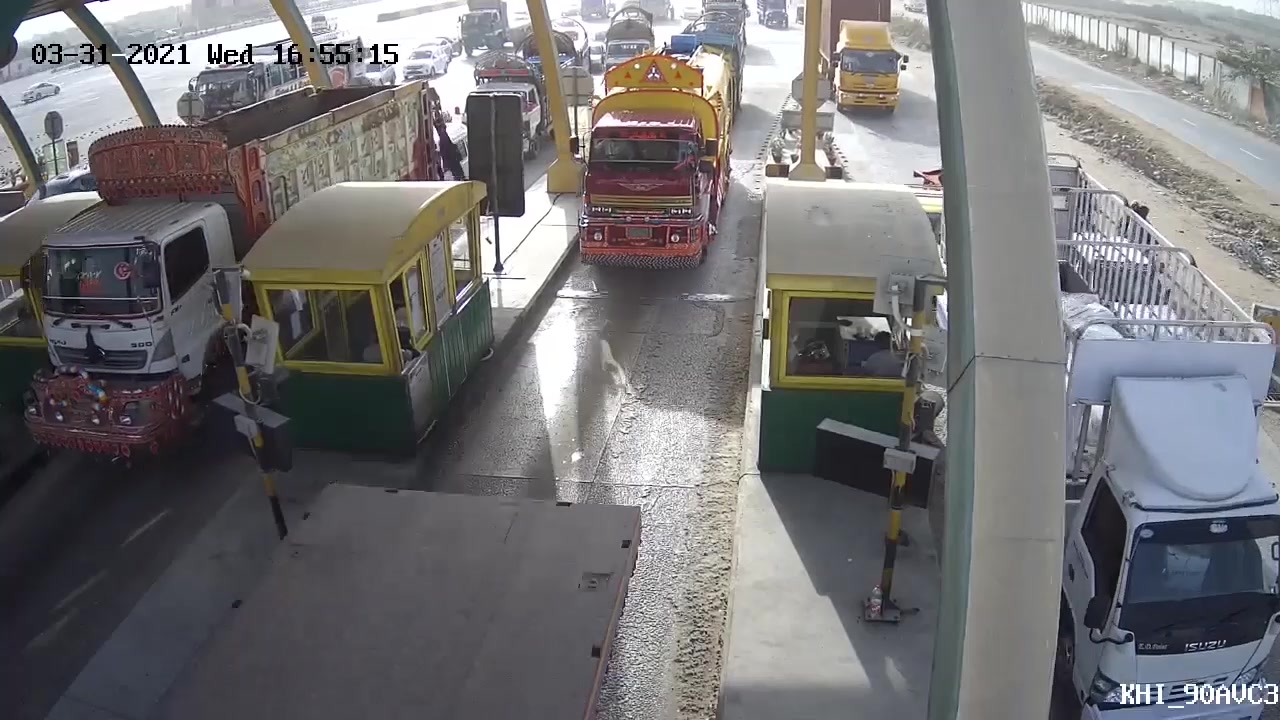F6: (565, 39, 746, 285)
